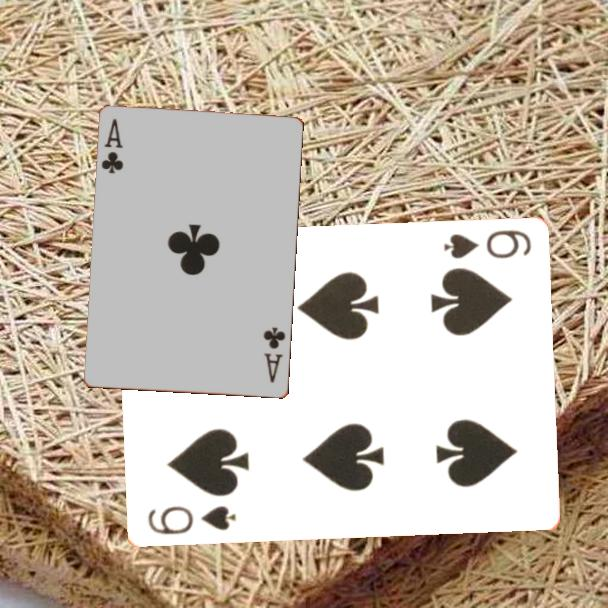c01: (260, 324, 289, 386), (98, 115, 126, 177)
s06: (144, 503, 239, 538), (439, 227, 534, 262)
